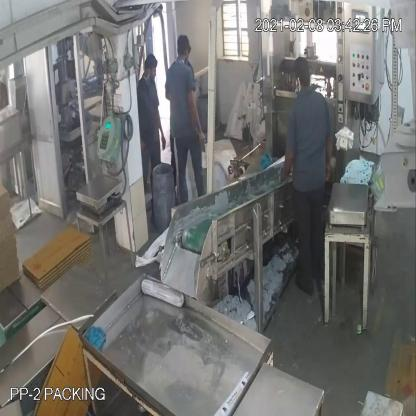no_glove: (188, 79, 209, 153), (319, 122, 338, 192), (280, 129, 296, 192)
